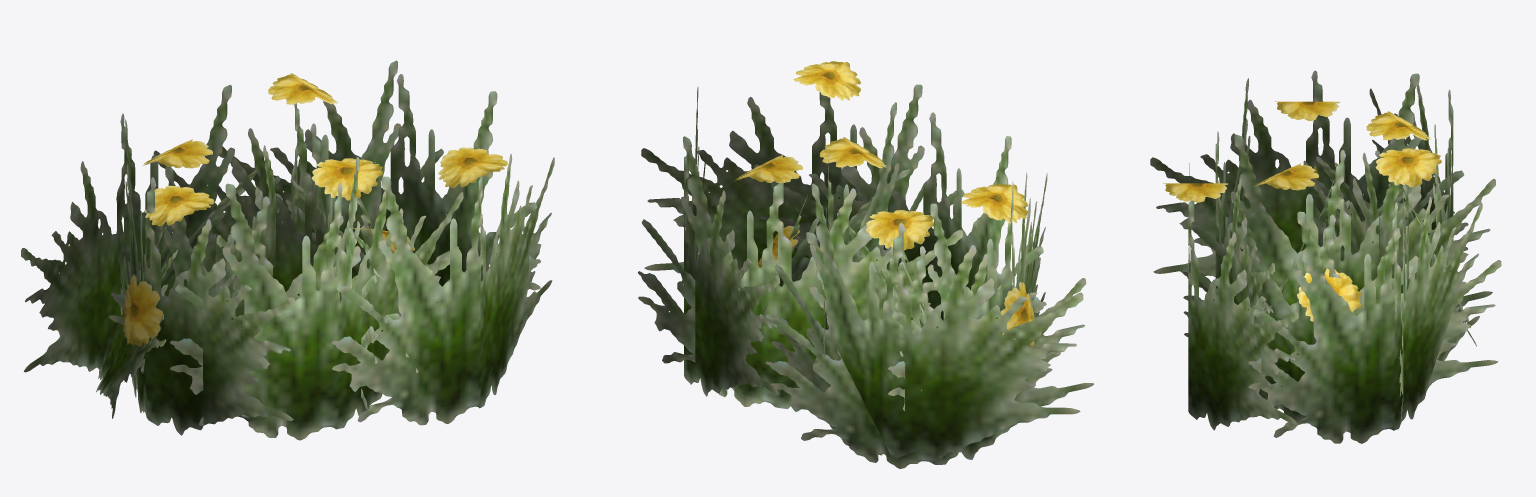
The model's file is Coreopsis.fbx.
3 renders of one model, left to right at view 1: azimuth 30°, elevation 25°; view 2: azimuth 150°, elevation 25°; view 3: azimuth 270°, elevation 25°, orthographic. The views are drawn at different scales.
Visible parts, largest first — view 1: Coreopsis; view 2: Coreopsis; view 3: Coreopsis.
Part boxes in pixels (x1,y1,x2,y2): Coreopsis: (21, 60, 554, 440); Coreopsis: (638, 61, 1093, 468); Coreopsis: (1150, 70, 1501, 443).
Size of the model in its own units: 0.5933 by 0.346 by 0.4188.
Materials: 1 (1 with a texture image).
